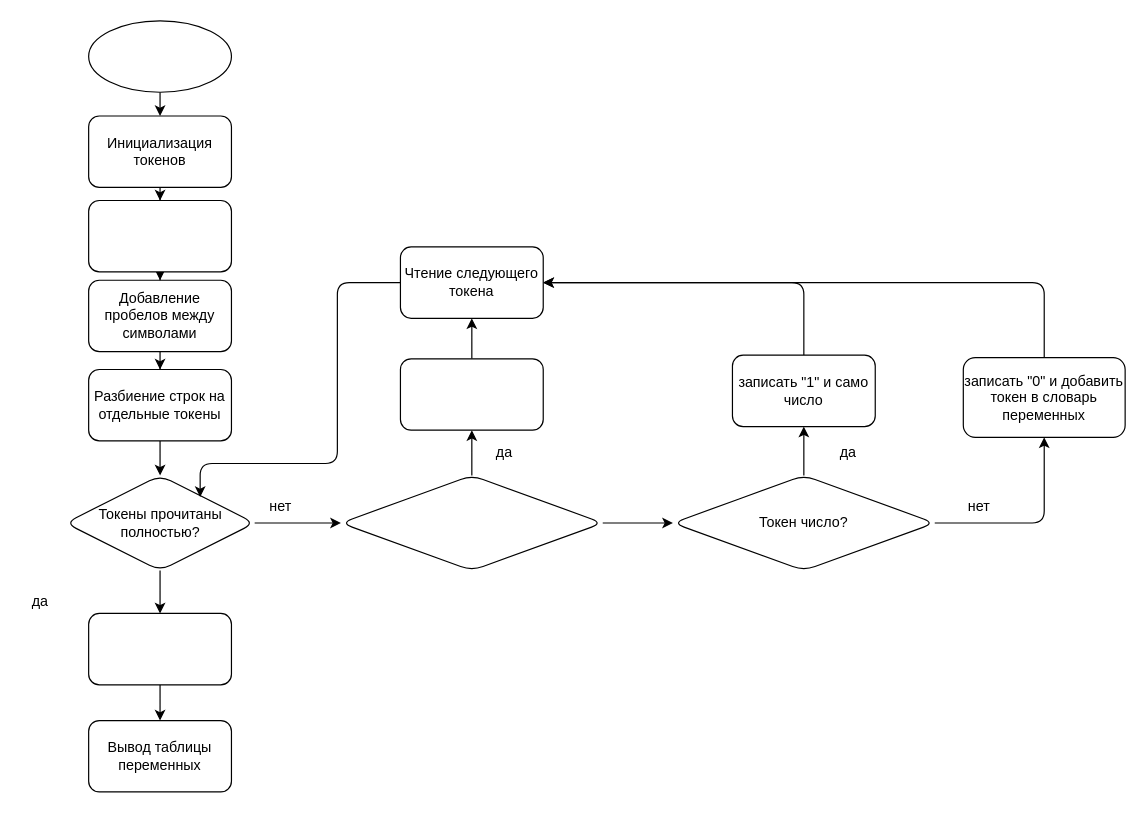
This 1146x813 diagram has some shape labels left out. The centre of each missing label's shape, as x and y in pixels:
Вывод таблицы токенов: [159,648]
Есть ли токен в таблице токенов: [471,522]
Задание исходного кода: [159,235]
Замена на соответствующий код: [471,394]
Старт: [159,56]
